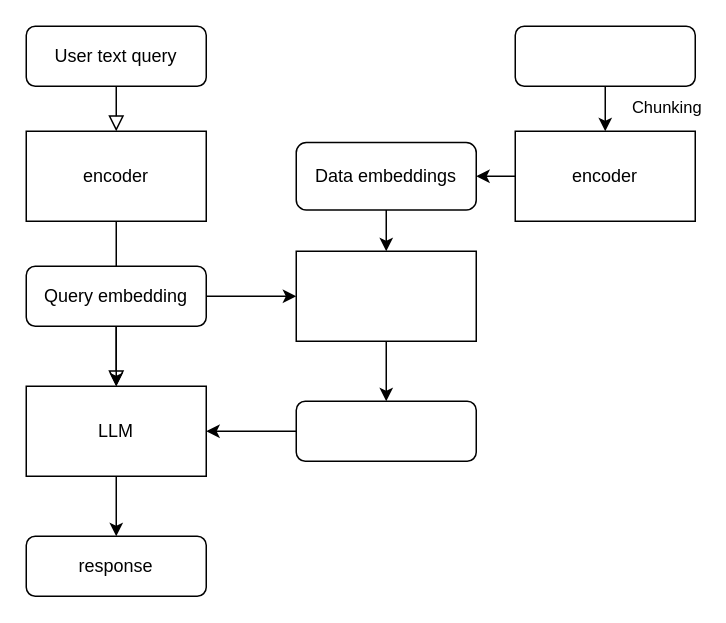
Image size: 726x623. Some labels were removed from this diagram. The box of each missing label's shape, as (x1, y1, x2, y2) in pixels:
External data: (514, 25, 695, 86)
Retriever: (295, 250, 476, 341)
Top-k documents: (295, 400, 476, 461)
